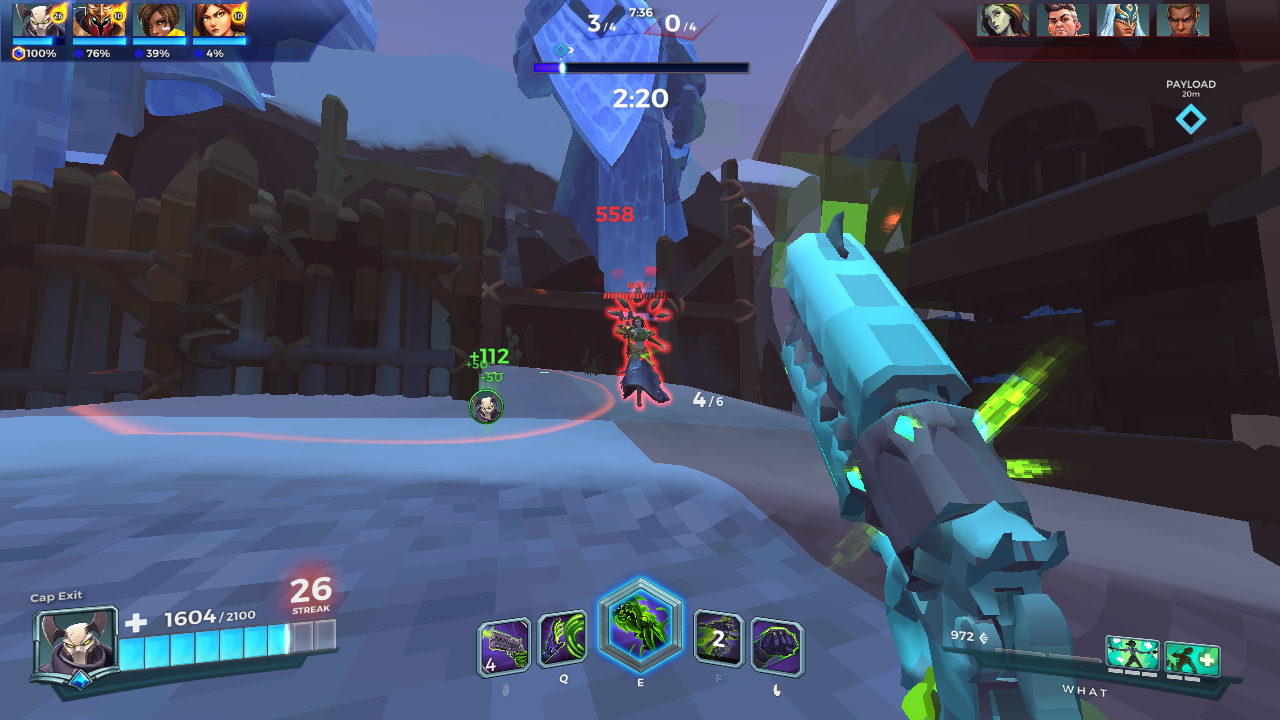model: (613, 307, 666, 416)
